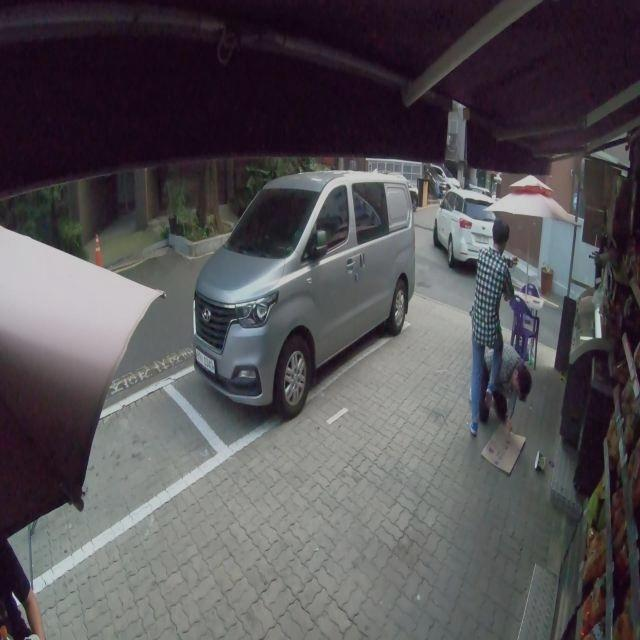fight: (468, 222, 532, 439)
